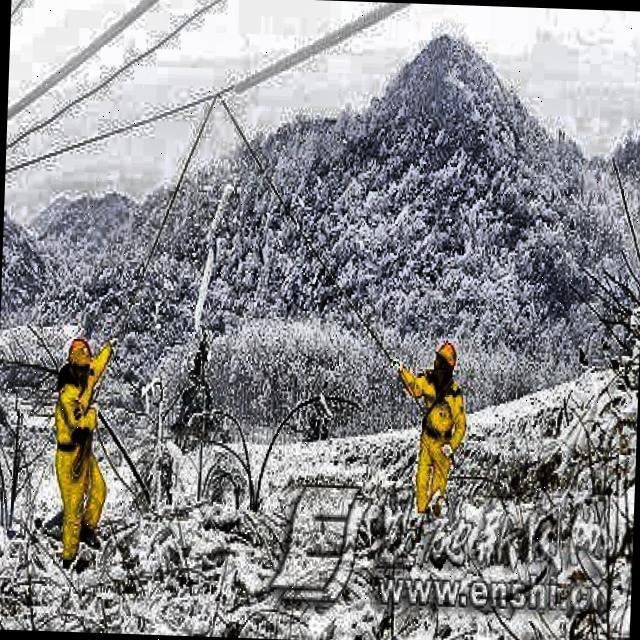helmet: (65, 327, 96, 391), (430, 340, 460, 388)
